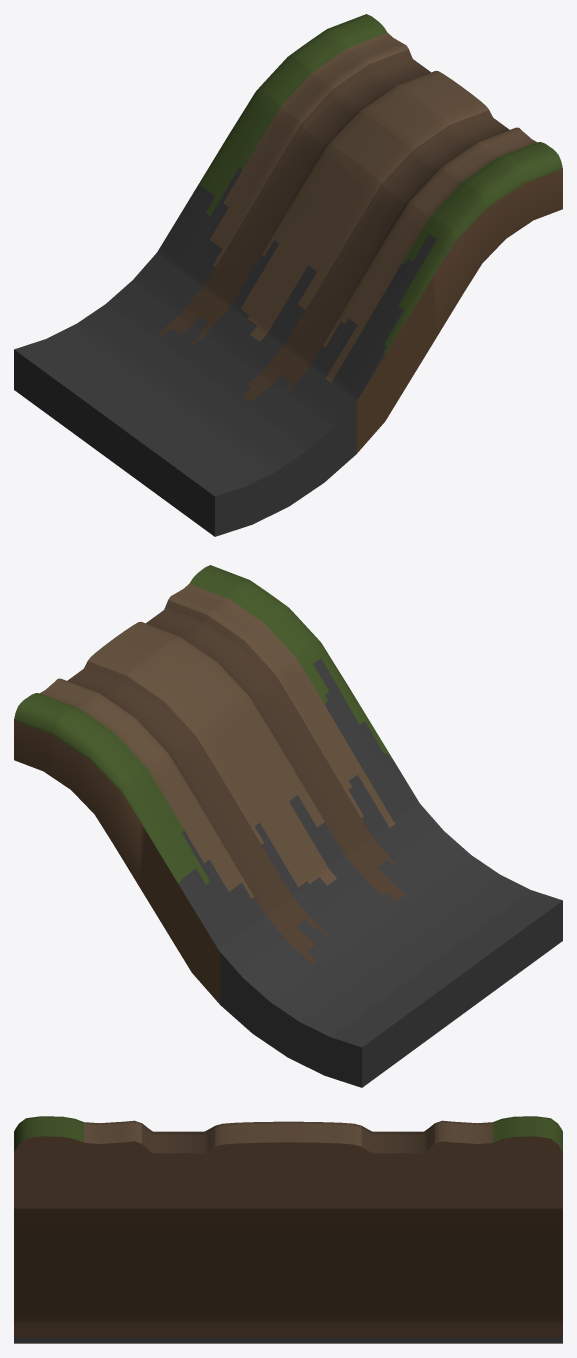
3 views of the same model, one above another, from view 1: azimuth 30°, elevation 25°; view 2: azimuth 150°, elevation 25°; view 3: azimuth 270°, elevation 25° (orthographic). The views are drawn at different scales.
Visible parts, largest first — view 1: c3u; view 2: c3u; view 3: c3u.
Boxes of the visible parts, <box> form: c3u: <box>14,14,562,536</box>; c3u: <box>14,565,562,1087</box>; c3u: <box>14,1116,562,1343</box>.
Bounding box in the file's own units: 9 × 7.31 × 9.
